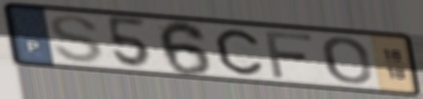5: (104, 13, 153, 71)
6: (156, 19, 215, 77)
C: (212, 27, 266, 77)
F: (262, 29, 315, 80)
O: (320, 35, 375, 86)
S: (47, 13, 105, 65)
